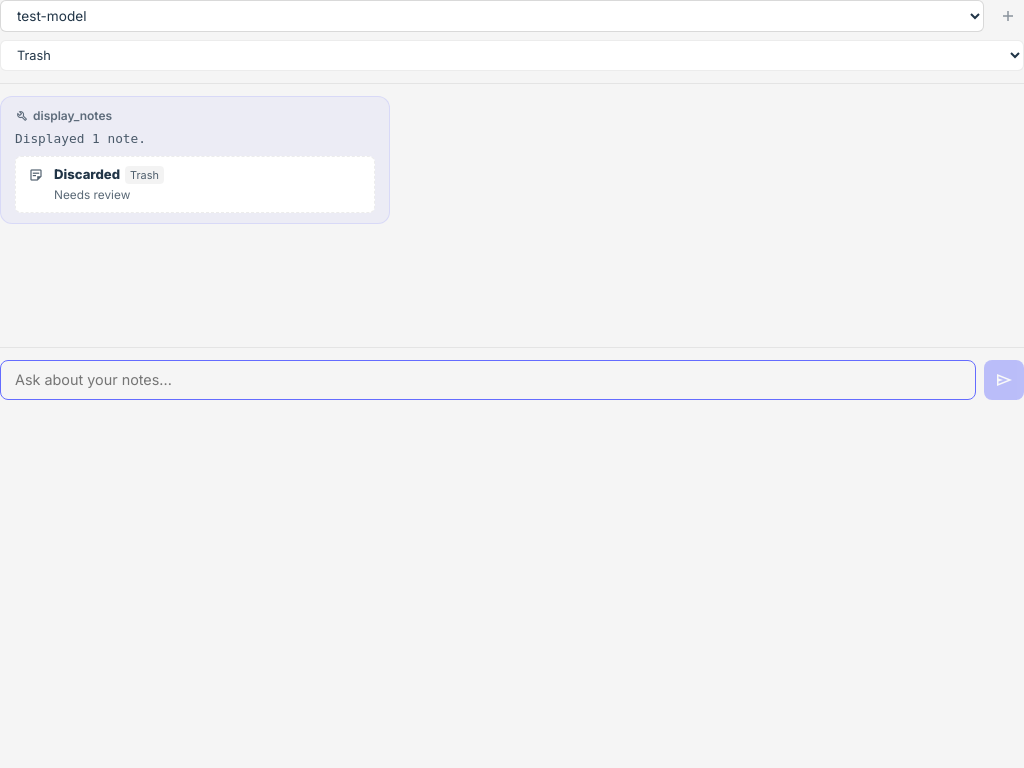
it: App chat view › opens trashed note links with restore controls
This screenshot has width=1024, height=768.
Click the button with aria-label "Open note Discarded": (87, 174) [15,156,375,213]
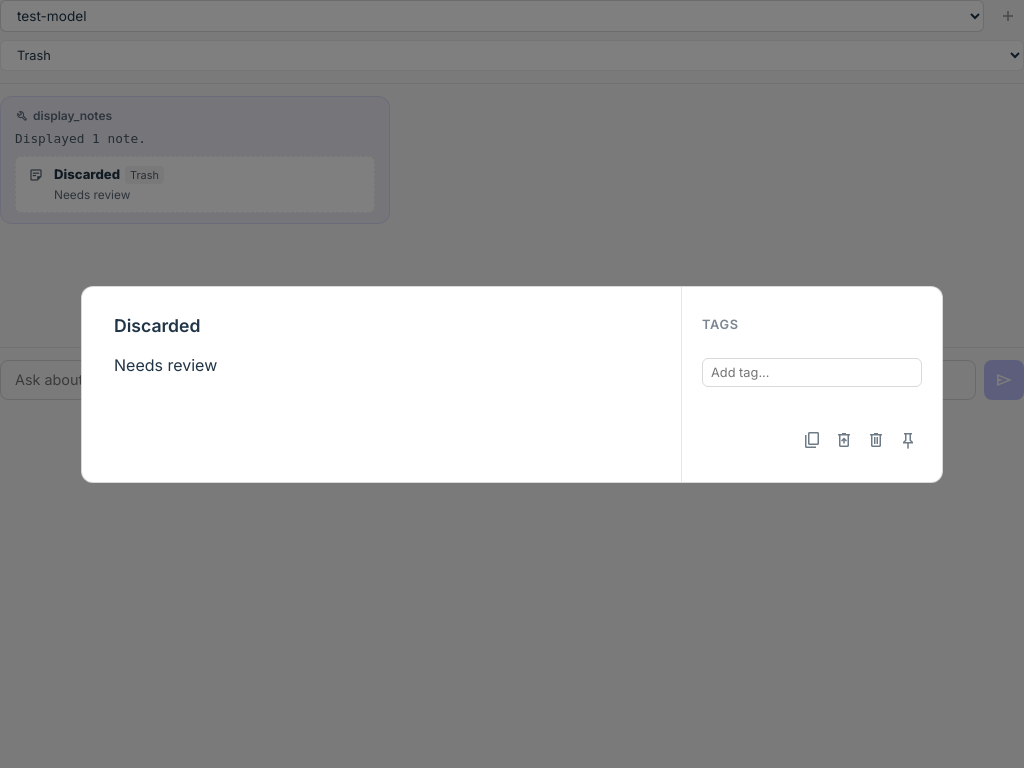
Result: the dialog named "Edit note" is shown at [81,286,943,482]
Result: the button named "Restore note" is shown at [830,426,858,454]
